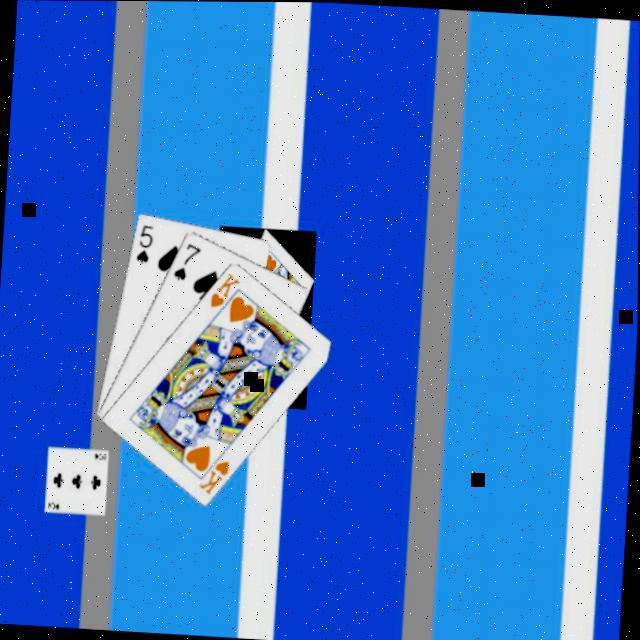5S: (130, 222, 154, 268)
7S: (168, 240, 202, 286)
KH: (205, 270, 242, 314), (193, 458, 230, 500)
